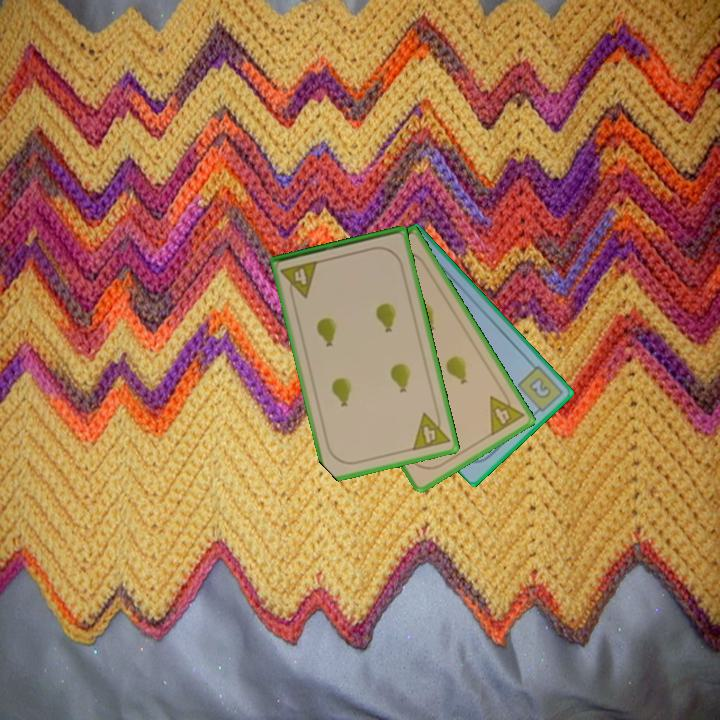2b: (514, 362, 566, 419)
4p: (486, 386, 527, 439), (409, 407, 453, 454), (277, 257, 321, 303)
